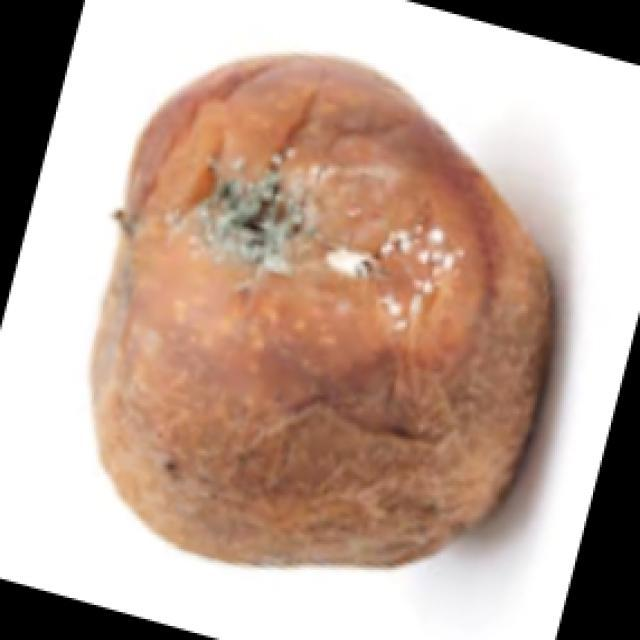Rotten: (96, 67, 566, 565)
